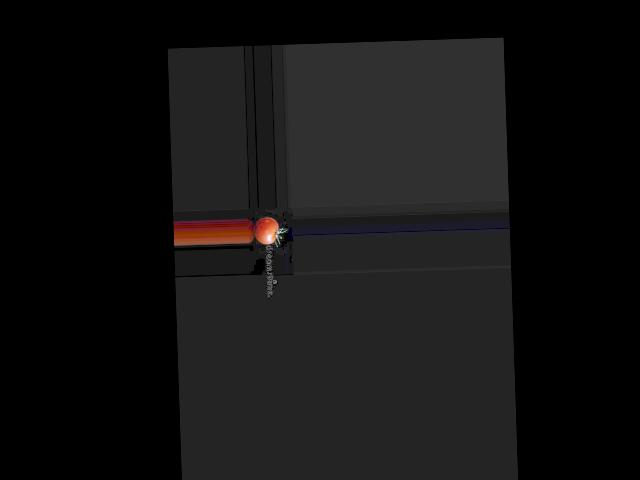tomato: (254, 217, 278, 245)
